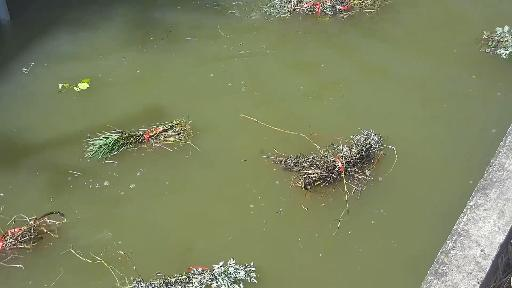leaf: (52, 73, 98, 99)
twig: (234, 109, 409, 231), (71, 119, 231, 178), (46, 249, 281, 288), (0, 191, 81, 268), (247, 0, 417, 27), (478, 19, 512, 57)
